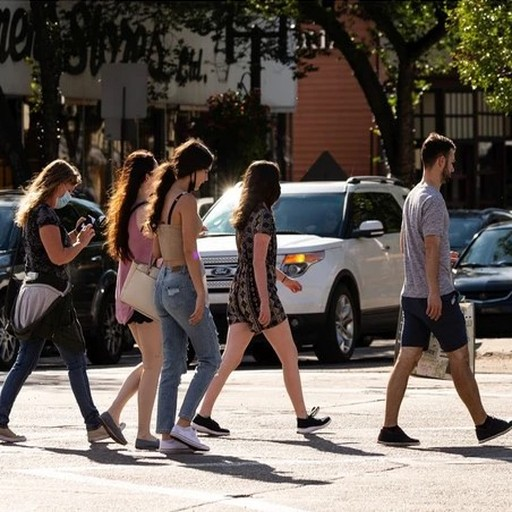pedestrian: (382, 130, 512, 444), (212, 157, 334, 439), (1, 157, 118, 446), (147, 138, 224, 458), (105, 148, 172, 451)
